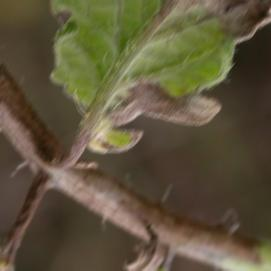Tomato leaf late blight: (38, 0, 271, 148)
